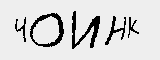И: (70, 11, 103, 48)
К: (127, 16, 142, 39)
Н: (104, 15, 127, 45)
О: (29, 12, 66, 49)
Ч: (12, 14, 31, 44)
